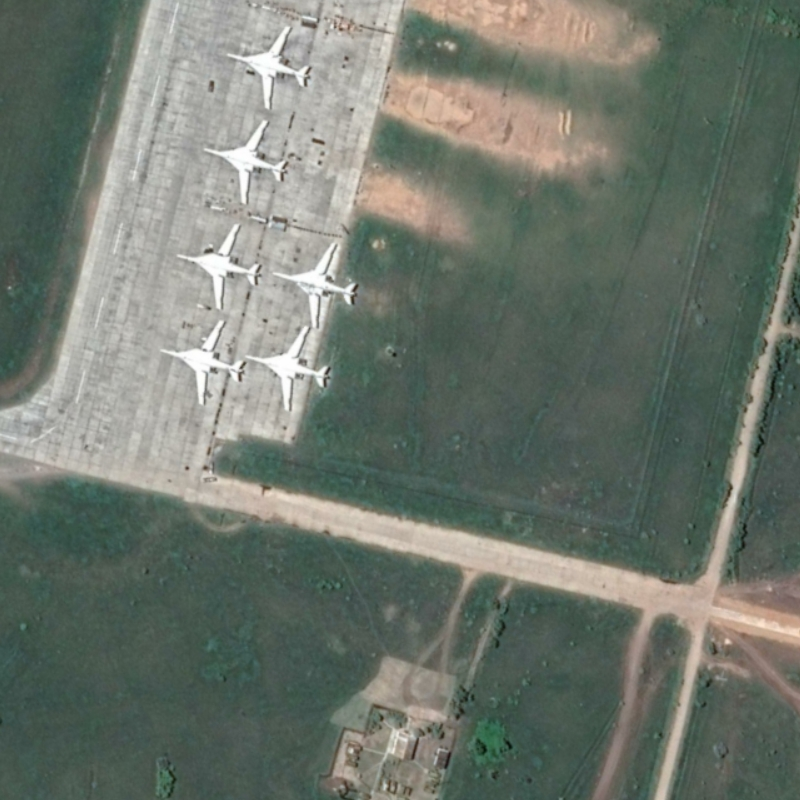A6: (151, 316, 250, 410), (268, 238, 361, 331), (242, 322, 334, 415), (220, 22, 315, 112), (173, 221, 265, 313), (199, 117, 289, 208)
